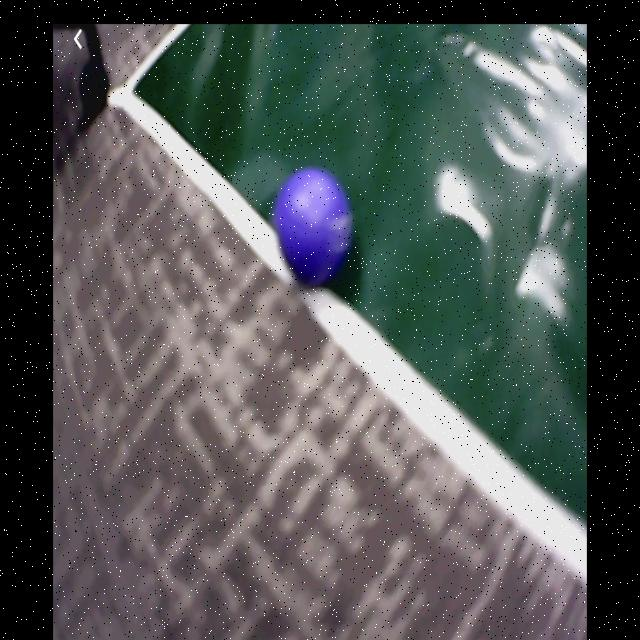ball: (278, 167, 351, 285)
